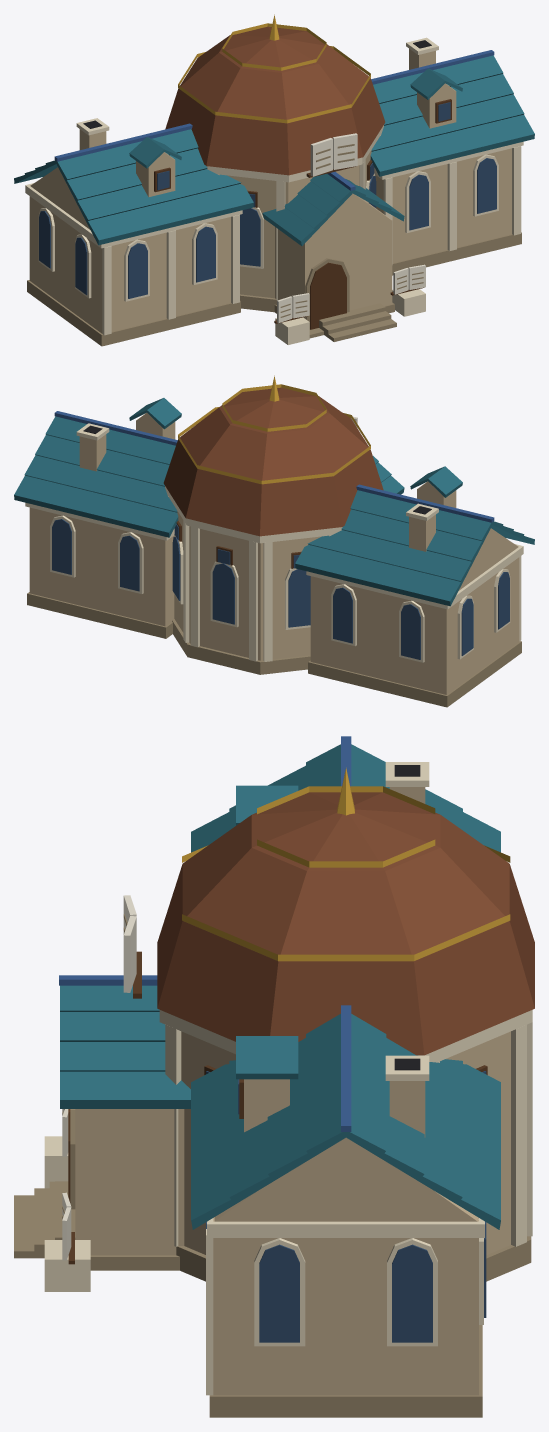
The model's file is Library.fbx.
The picture shows the model from 3 angles, top to bottom: view 1: azimuth 30°, elevation 25°; view 2: azimuth 150°, elevation 25°; view 3: azimuth 270°, elevation 25°; orthographic projection. The views are drawn at different scales.
Parts seen in each view (by area): view 1: Library; view 2: Library; view 3: Library.
Part boxes in pixels (x1=…): Library: x1=14, y1=14, x2=534, y2=346; Library: x1=14, y1=375, x2=534, y2=707; Library: x1=14, y1=736, x2=534, y2=1417.
Size of the model in its own units: 18.04 by 10 by 10.2.
